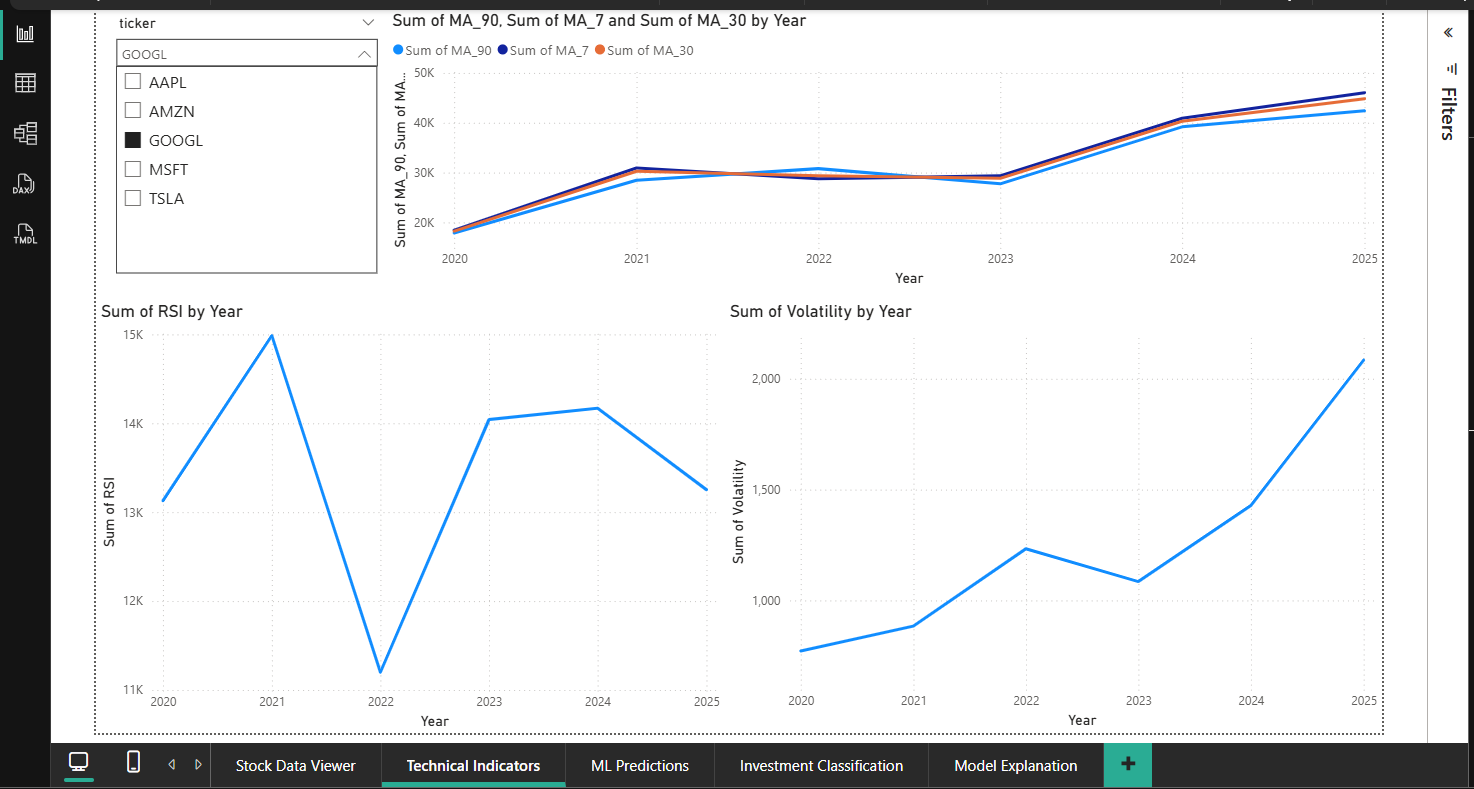

What the dashboard file says about the page in this screenshot:
{"tool":"powerbi","page":{"name":"Technical Indicators","canvas":[1280,720],"ordinal":1},"visuals":[{"type":"slicer","fields":{"Values":["technical_indicators.ticker"]},"box":[10,0,280,280],"z":0},{"type":"lineChart","fields":{"Category":["technical_indicators.date.Variation.Date Hierarchy.Year","technical_indicators.date.Variation.Date Hierarchy.Quarter","technical_indicators.date.Variation.Date Hierarchy.Month","technical_indicators.date.Variation.Date Hierarchy.Day"],"Y":["Sum(technical_indicators.MA_90)","Sum(technical_indicators.MA_7)","Sum(technical_indicators.MA_30)"]},"box":[289.5,0,990.7,279.9],"z":1000},{"type":"lineChart","fields":{"Category":["technical_indicators.date.Variation.Date Hierarchy.Year","technical_indicators.date.Variation.Date Hierarchy.Quarter","technical_indicators.date.Variation.Date Hierarchy.Month","technical_indicators.date.Variation.Date Hierarchy.Day"],"Y":["Sum(technical_indicators.RSI)"]},"box":[0,289.5,625.7,430.9],"z":2000},{"type":"lineChart","fields":{"Category":["technical_indicators.date.Variation.Date Hierarchy.Year","technical_indicators.date.Variation.Date Hierarchy.Quarter","technical_indicators.date.Variation.Date Hierarchy.Month","technical_indicators.date.Variation.Date Hierarchy.Day"],"Y":["Sum(technical_indicators.Volatility)"]},"box":[626,290,654,430],"z":3000}]}

Visuals, with their boxes on the page's 1280x720 design canvas (x1, y1, x2, y2). These are canvas units, not pixel positions in the 1474x789 screenshot, which may show the page scaled, cropped or inside an application window:
slicer - technical_indicators.ticker: (10,0,290,280)
lineChart - technical_indicators.date.Variation.Date Hierarchy.Year x technical_indicators.date.Variation.Date Hierarchy.Quarter: (290,0,1280,280)
lineChart - technical_indicators.date.Variation.Date Hierarchy.Year x technical_indicators.date.Variation.Date Hierarchy.Quarter: (0,290,626,720)
lineChart - technical_indicators.date.Variation.Date Hierarchy.Year x technical_indicators.date.Variation.Date Hierarchy.Quarter: (626,290,1280,720)
